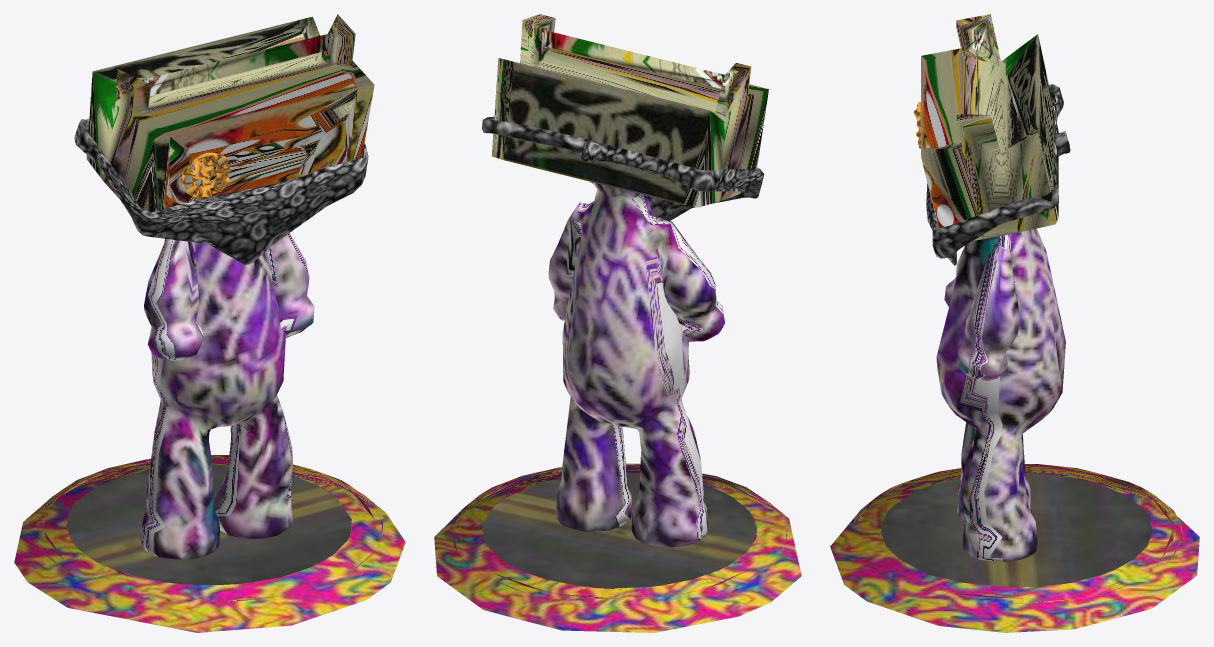
The picture shows the model from 3 angles, left to right: view 1: azimuth 30°, elevation 25°; view 2: azimuth 150°, elevation 25°; view 3: azimuth 270°, elevation 25°; orthographic projection. The views are drawn at different scales.
Size of the model in its own units: 1.44 by 2.09 by 1.43.
Materials: 6 (6 with a texture image).
